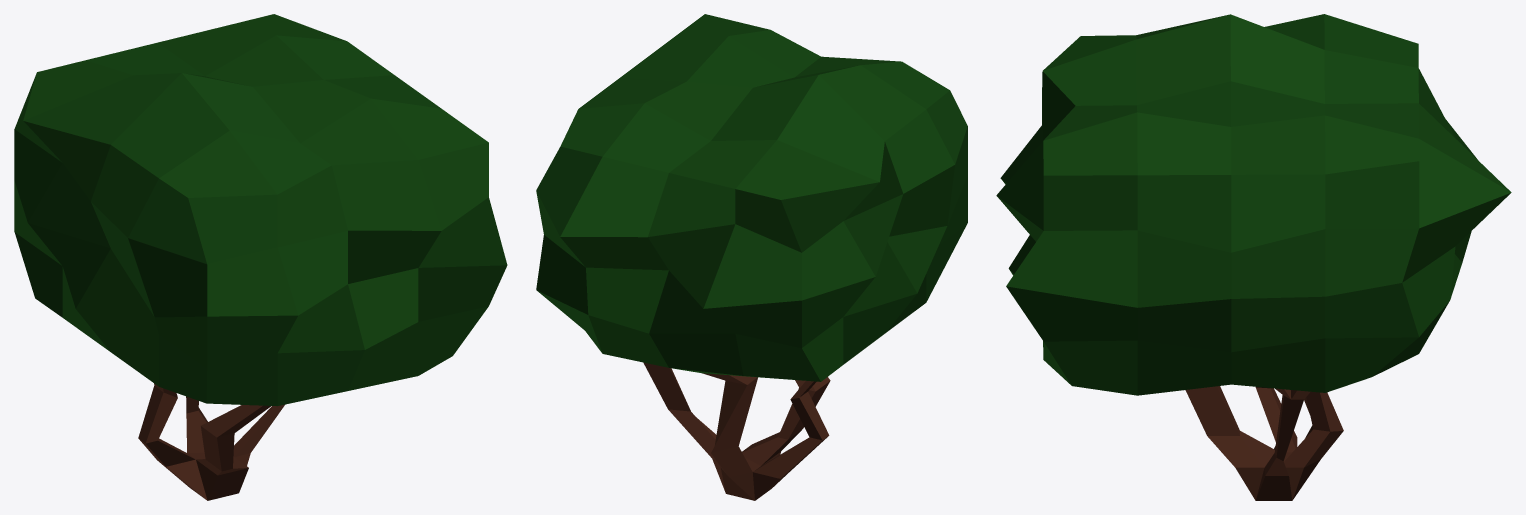
Rendered from drzewo.fbx.
3 renders of one model, left to right at view 1: azimuth 30°, elevation 25°; view 2: azimuth 150°, elevation 25°; view 3: azimuth 270°, elevation 25°, orthographic. The views are drawn at different scales.
Parts seen in each view (by area): view 1: Cube; view 2: Cube; view 3: Cube.
Part boxes in pixels (box(x1,y1,x2,y2)): Cube: box(14, 14, 507, 500); Cube: box(536, 14, 967, 500); Cube: box(996, 14, 1511, 500).
Size of the model in its own units: 2372 by 2720 by 2810.
Materials: 1 (1 with a texture image).
